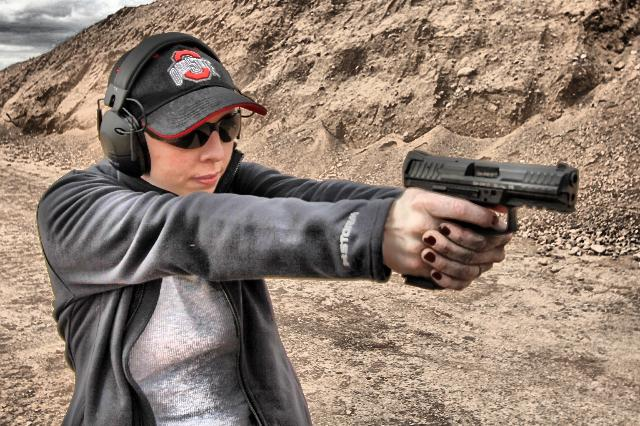pistol: (394, 144, 576, 314)
